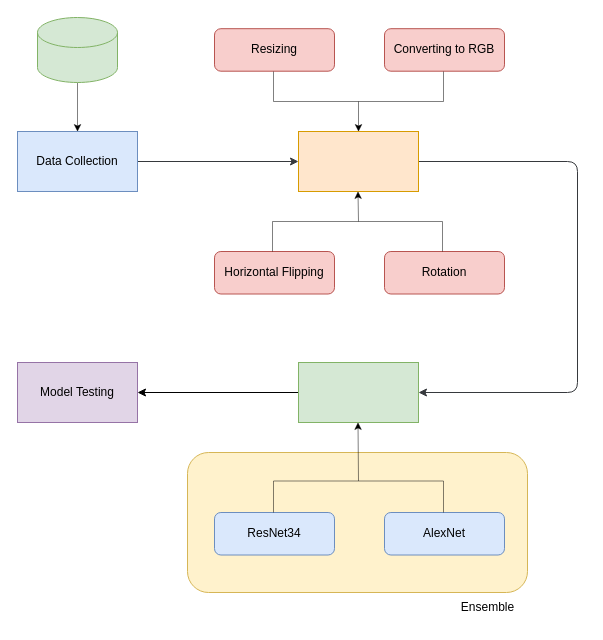
This 603x640 diagram has some shape labels left out. The centre of each missing label's shape, as x and y in pixels:
"Data Preprocessing" belongs at pixel 358 161.
"FER2013" belongs at pixel 77 49.
"Model Training and Validation" belongs at pixel 358 392.
